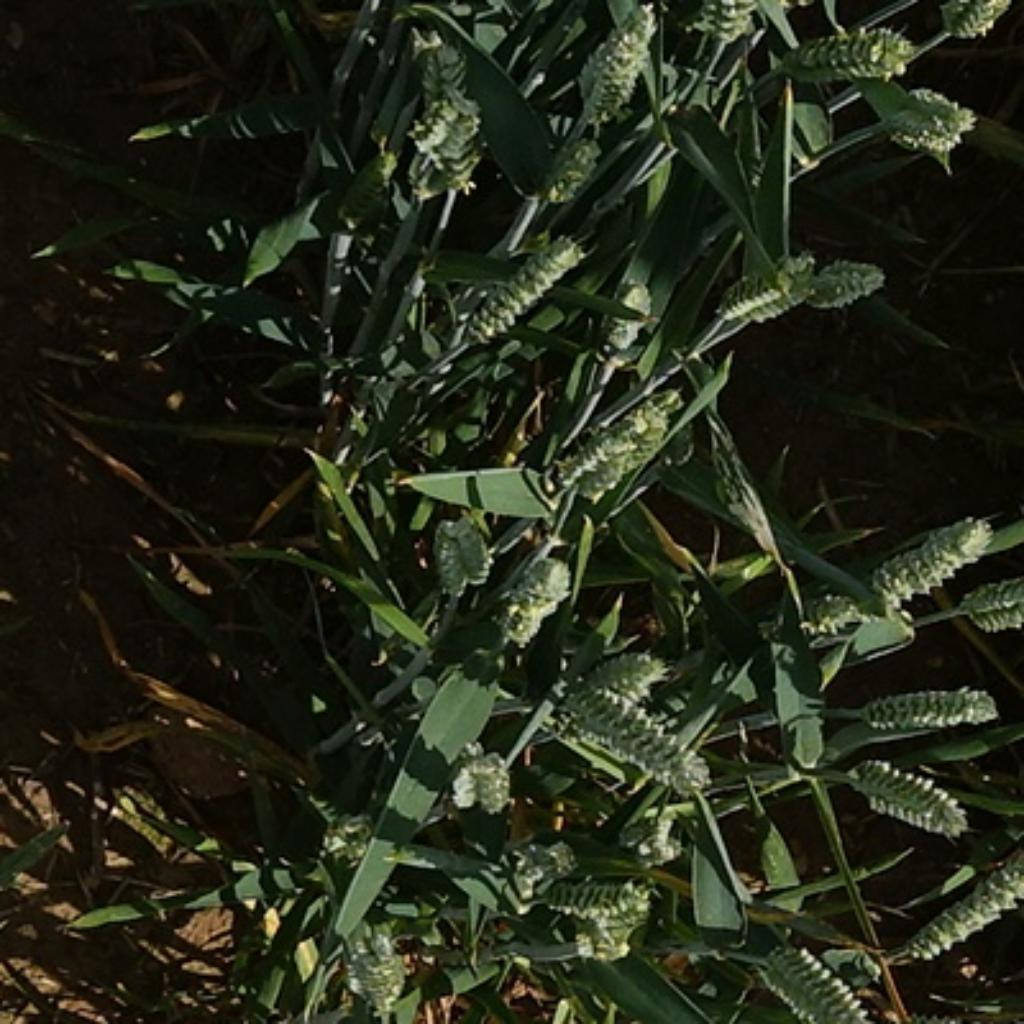0-0: (547, 663, 709, 798), (445, 215, 591, 350), (860, 501, 1000, 606), (553, 400, 669, 513), (908, 856, 1024, 967), (842, 751, 983, 838), (565, 2, 660, 122), (760, 941, 875, 1024), (402, 84, 488, 189), (852, 678, 1006, 734), (494, 540, 576, 645), (715, 251, 819, 332), (563, 885, 660, 967), (805, 23, 925, 84), (336, 921, 412, 1016), (417, 509, 496, 599), (886, 84, 982, 153), (437, 739, 519, 816), (580, 647, 670, 713), (592, 276, 661, 361), (304, 796, 381, 872), (791, 256, 898, 309), (340, 148, 404, 234), (541, 134, 610, 207), (611, 808, 696, 865), (954, 574, 1024, 640), (501, 839, 583, 893), (540, 880, 640, 924), (807, 591, 861, 643)
